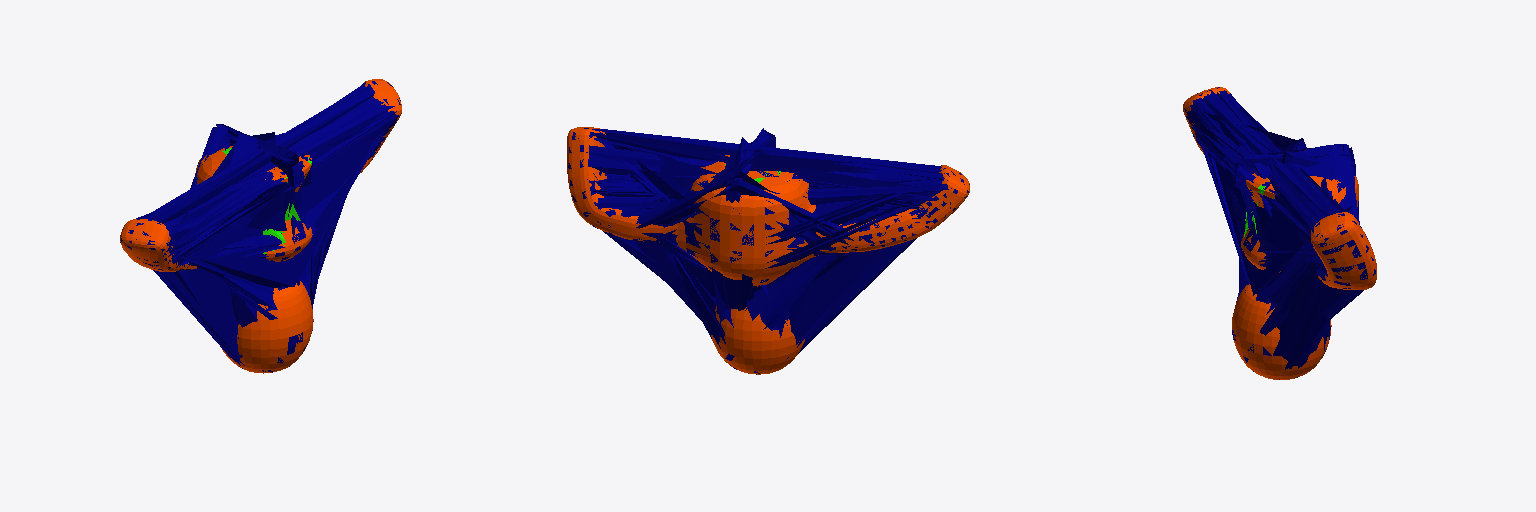
File: teainfuser.obj
The picture shows the model from 3 angles: view 1: azimuth 30°, elevation 25°; view 2: azimuth 150°, elevation 25°; view 3: azimuth 270°, elevation 25°; orthographic projection.
Visible parts, largest first — view 1: Object001, Sphere003; view 2: Object001, Sphere003; view 3: Object001, Sphere003.
Boxes of the visible parts, x1,y1,x2,y2 form: Object001: [120, 81, 400, 372]; Sphere003: [120, 79, 401, 373]; Object001: [568, 128, 969, 374]; Sphere003: [567, 127, 969, 374]; Object001: [1184, 87, 1375, 379]; Sphere003: [1183, 87, 1376, 379].
Size of the model in its own units: 38.68 by 25.64 by 19.48.